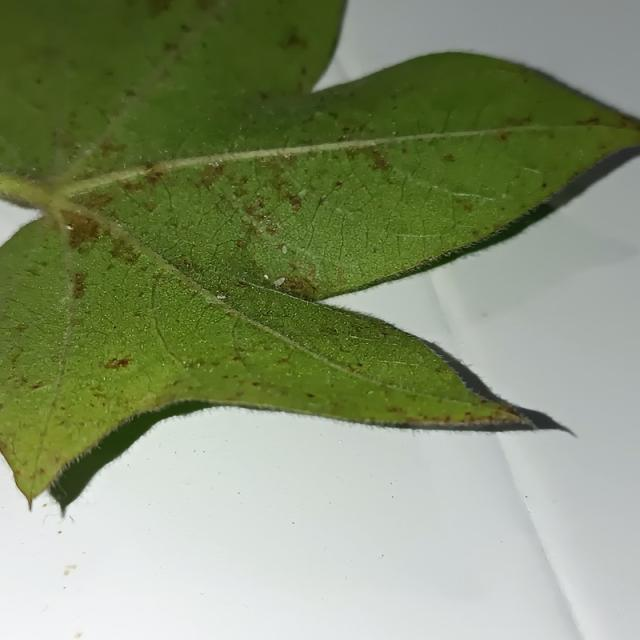Bacterial_Blight: (65, 213, 106, 251), (342, 142, 388, 171), (107, 235, 142, 265), (198, 161, 228, 190), (277, 274, 314, 297), (102, 353, 130, 376), (243, 199, 271, 221), (97, 139, 126, 158), (70, 273, 88, 301), (281, 31, 307, 50), (234, 278, 264, 294), (148, 0, 173, 16), (504, 115, 533, 127), (143, 169, 164, 185), (405, 415, 431, 424), (576, 116, 600, 125), (188, 357, 207, 368), (289, 197, 302, 213), (163, 40, 179, 53), (322, 326, 339, 336), (144, 200, 157, 213), (427, 138, 442, 149), (30, 380, 46, 390), (13, 323, 29, 333), (442, 153, 456, 163), (123, 88, 137, 98), (499, 131, 512, 141), (462, 202, 475, 212), (276, 356, 290, 364), (297, 188, 308, 198), (327, 111, 339, 120), (231, 355, 244, 363), (236, 239, 246, 249), (182, 258, 192, 268), (333, 180, 344, 189), (341, 126, 353, 133), (216, 293, 227, 300), (464, 411, 473, 418), (306, 392, 316, 398), (67, 564, 77, 570), (540, 182, 548, 189), (73, 630, 81, 637), (252, 381, 261, 387), (63, 570, 70, 576), (42, 502, 48, 508), (74, 636, 82, 640), (57, 531, 62, 534)
Cotton: (0, 54, 639, 499)
